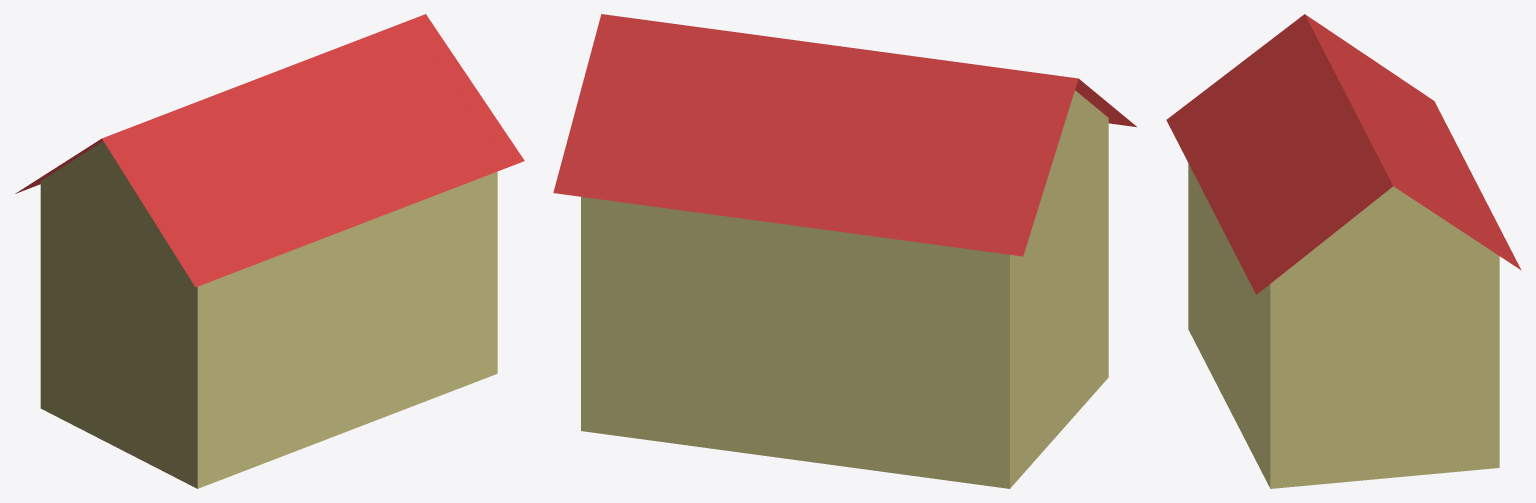
The picture shows the model from 3 angles, left to right: view 1: azimuth 30°, elevation 25°; view 2: azimuth 150°, elevation 25°; view 3: azimuth 270°, elevation 25°; orthographic projection. The views are drawn at different scales.
Bounding box in the file's own units: 18.66 × 14.45 × 13.43.
